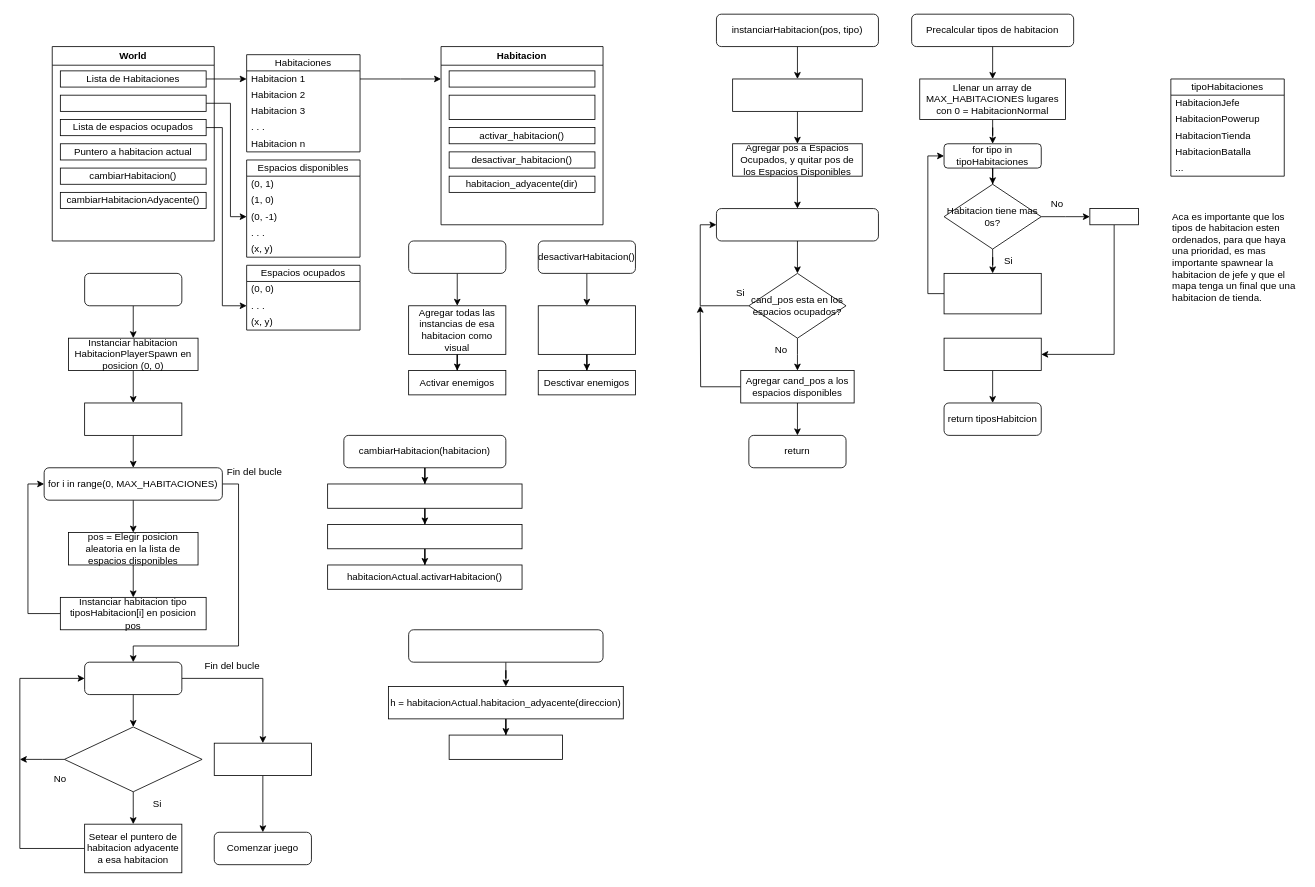
The diagram is 1315 pixels wide and 887 high, and some of its shapes have lost their labels. Here are the shapes that lost their labels. From the top down, the centre of each, then its label:
At point 521,78: "Posicion".
At point 797,94: "new Habitacion(pos, tipo)".
At point 133,102: "Lista de espacios disponibles".
At point 521,106: "Punteros a habitaciones adyacentes".
At point 797,224: "for cand_pos in [los lados de pos]".
At point 1113,216: "break".
At point 457,256: "activarHabitacion()".
At point 133,289: "Generar Mundo".
At point 992,293: "Elige un 0 random y lo pisa con tipo".
At point 586,329: "Sacar todas las instancias de esa habitacion como visual".
At point 992,354: "Cambia todos los ceros por HabitacionNormal".
At point 133,418: "Precalcular los tipos de habitacion".
At point 424,495: "habitacionActual.desactivarHabitacion()".
At point 424,536: "habitacionActual = habitacion".
At point 505,645: "cambiarHabitacionAdyacente(direccion)".
At point 133,678: "for habitacion in habitaciones".
At point 133,759: "Hay alguna habitacion arriba/abajo/al lado de esta?".
At point 262,759: "Activar habitacion de spawn del jugador".
At point 505,746: "cambiarHabitacion(h)".
